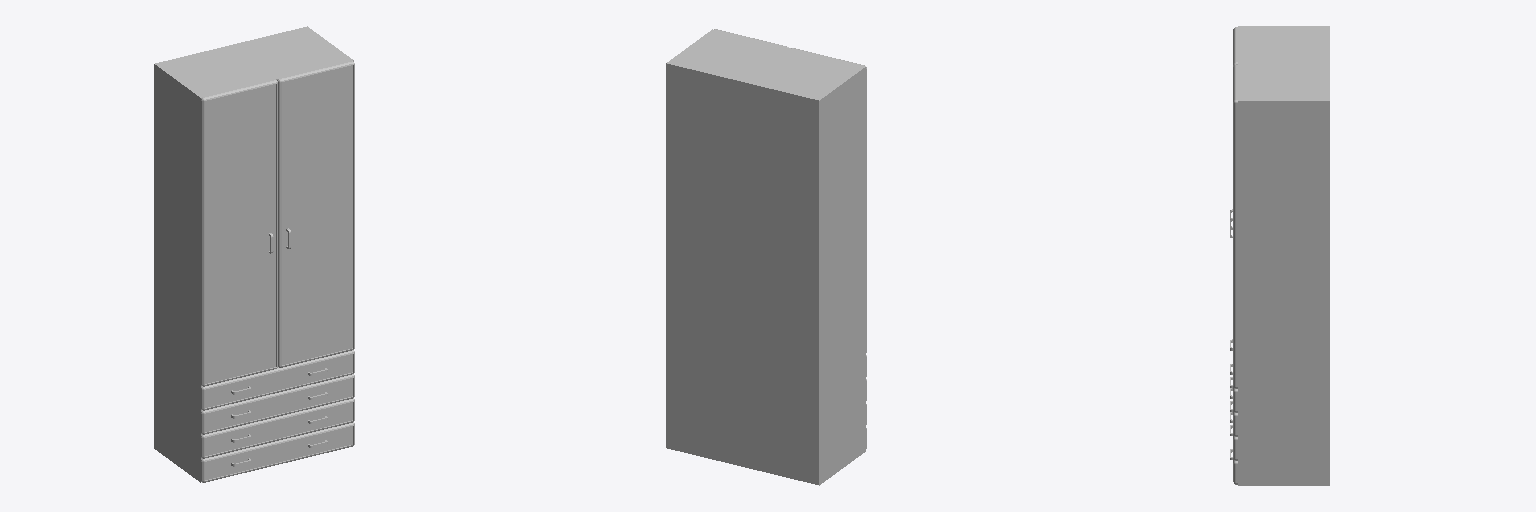
File: drawer.obj
The picture shows the model from 3 angles: view 1: azimuth 30°, elevation 25°; view 2: azimuth 150°, elevation 25°; view 3: azimuth 270°, elevation 25°; orthographic projection.
Parts seen in each view (by area): view 1: Box08_1, Box10_4, Box09_3, Box14_12, Box11_7, Box12_8, Box13_10, ChamferBox08_5, ChamferBox07_2, ChamferBox11_11, ChamferBox10_9, ChamferBox09_6 (+1 smaller); view 2: Box08_1; view 3: Box08_1, ChamferBox08_5.
Boxes of the visible parts, x1,y1,x2,y2 form: Box08_1: [154, 26, 353, 482]; Box10_4: [282, 65, 352, 364]; Box09_3: [205, 84, 275, 383]; Box14_12: [205, 354, 352, 407]; Box11_7: [205, 426, 352, 479]; Box12_8: [205, 402, 352, 455]; Box13_10: [205, 378, 352, 431]; ChamferBox08_5: [277, 61, 354, 367]; ChamferBox07_2: [201, 80, 277, 386]; ChamferBox11_11: [201, 374, 354, 434]; ChamferBox10_9: [201, 398, 354, 458]; ChamferBox09_6: [201, 422, 354, 482]; Box08_1: [666, 29, 865, 485]; Box08_1: [1238, 26, 1329, 485]; ChamferBox08_5: [1233, 64, 1237, 388].
Bounding box in the file's own units: 100 × 240 × 57.